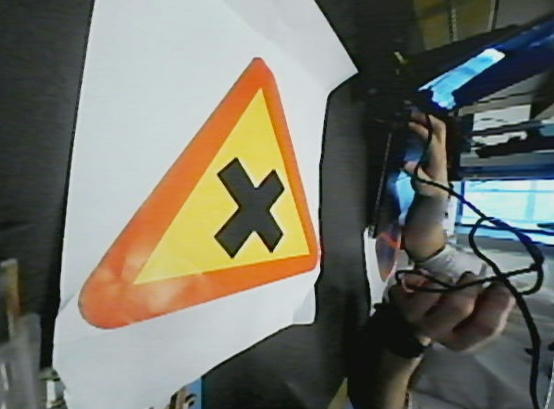junction: (48, 35, 325, 335)
